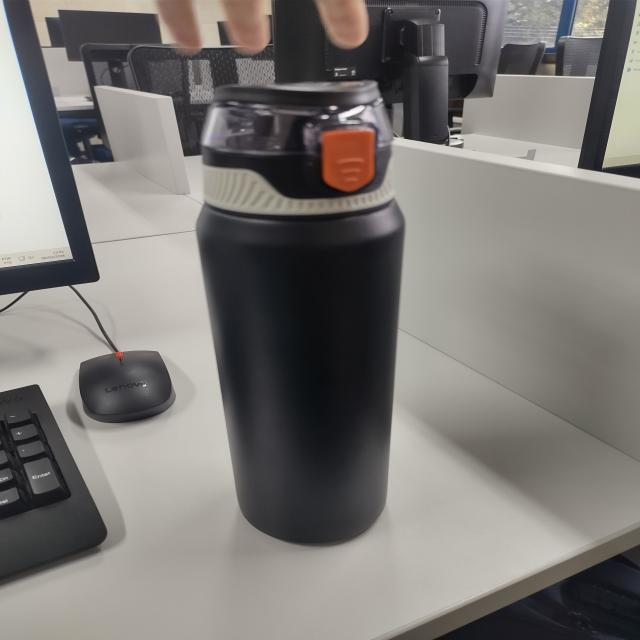Garrafa: (191, 77, 407, 547)
